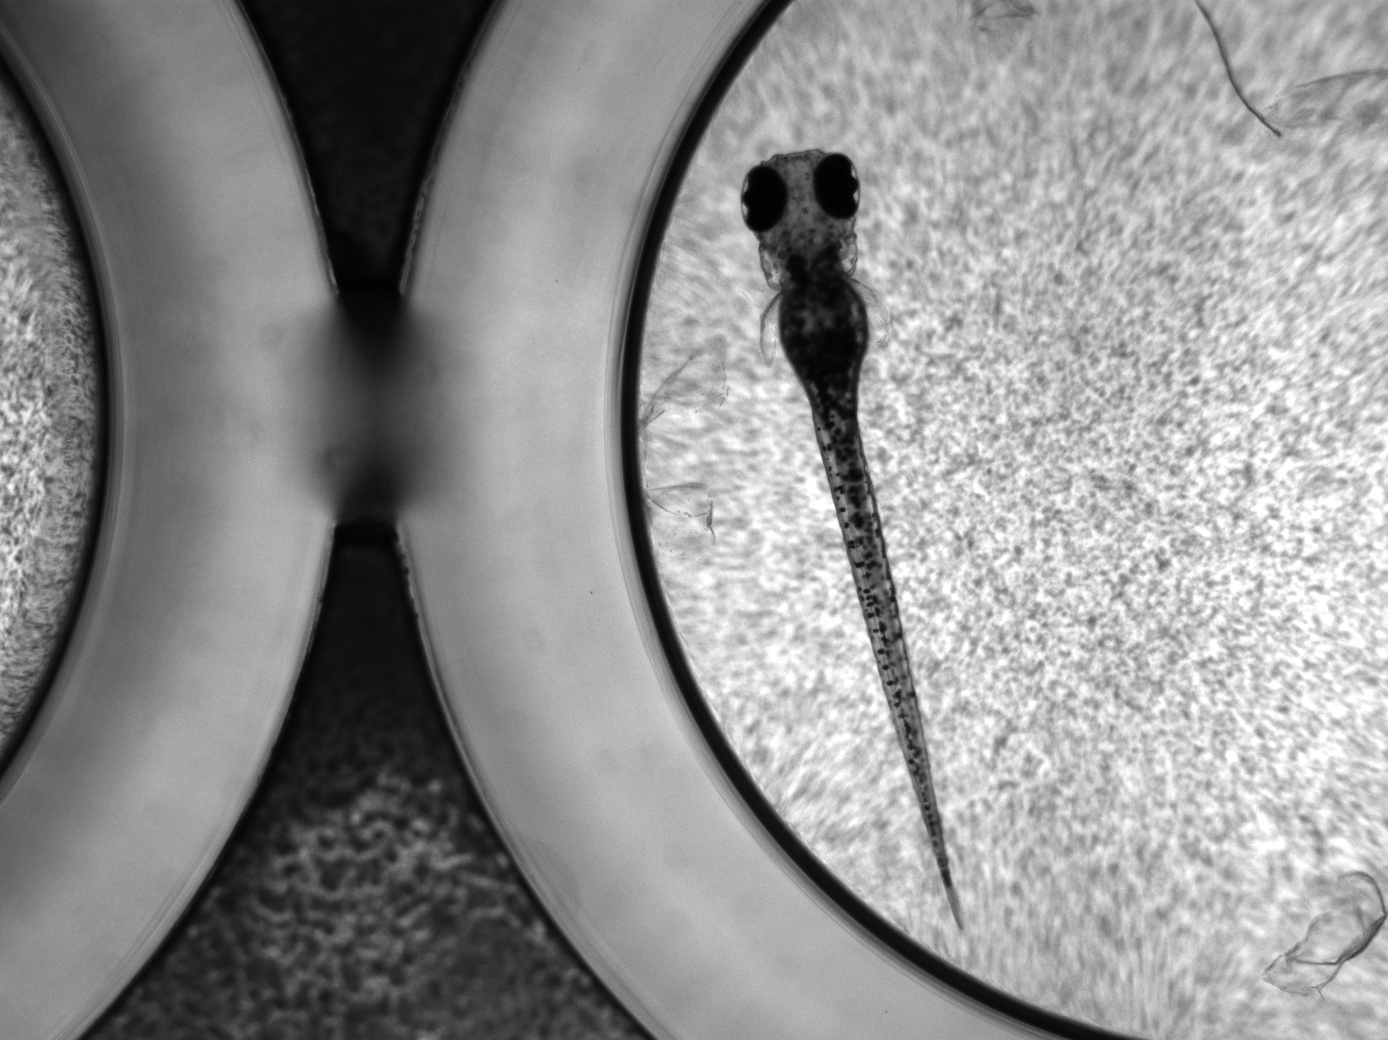debris: (636, 335, 729, 544), (1255, 866, 1387, 1000), (1195, 1, 1286, 140)
embryo: (742, 149, 971, 930)
eye: (742, 164, 787, 234), (812, 153, 861, 218)
yolksac: (779, 275, 869, 376)
